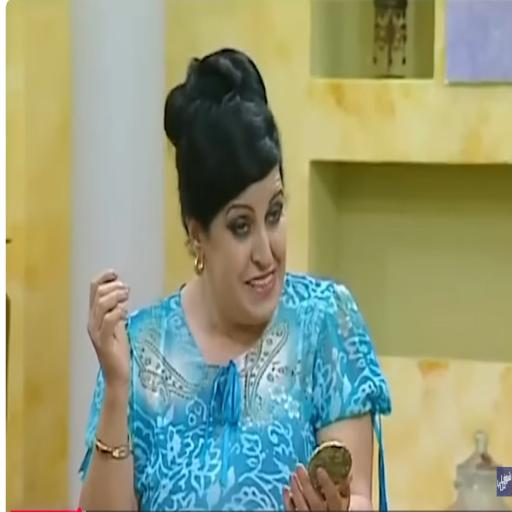jannet: (164, 49, 286, 331)
